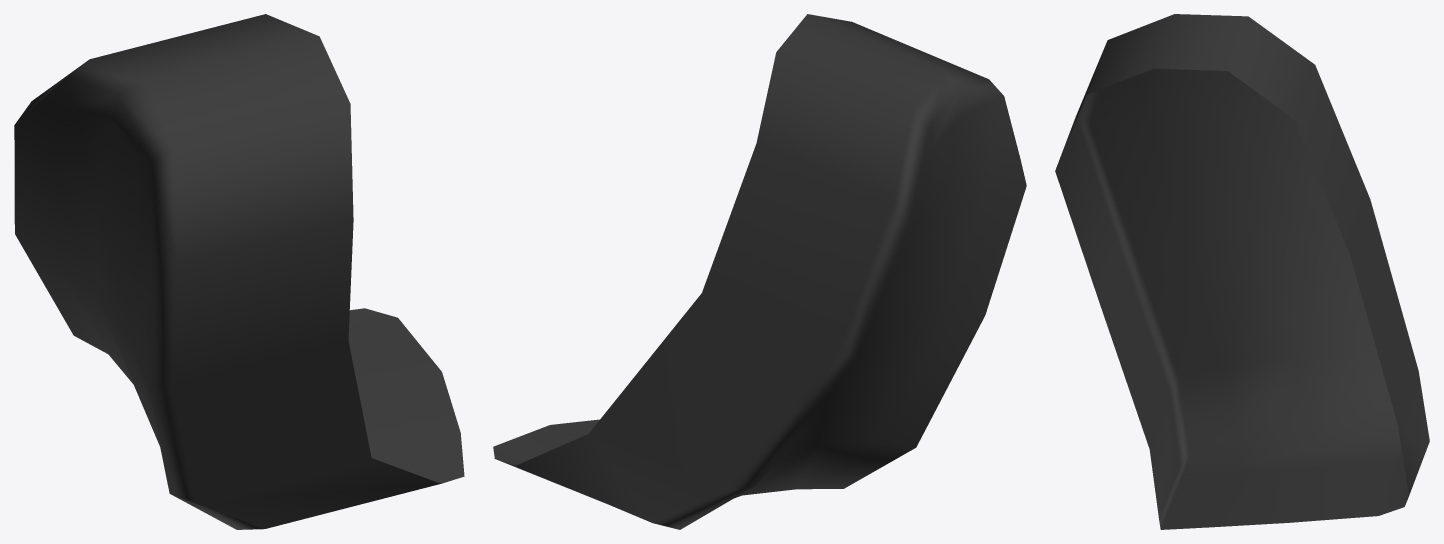
The model's file is crystal_controller_right_button3.obj.
3 views of the same model, side by side, from view 1: azimuth 30°, elevation 25°; view 2: azimuth 150°, elevation 25°; view 3: azimuth 270°, elevation 25° (orthographic). The views are drawn at different scales.
Visible parts, largest first — view 1: crystal_controller_right_button3; view 2: crystal_controller_right_button3; view 3: crystal_controller_right_button3.
Part boxes in pixels (x1,y1,x2,y2): crystal_controller_right_button3: (14,14,464,529); crystal_controller_right_button3: (493,14,1026,529); crystal_controller_right_button3: (1055,14,1429,529).
Bounding box in the file's own units: 0.0218 × 0.0244 × 0.02.
Materials: 1 (1 with a texture image).
